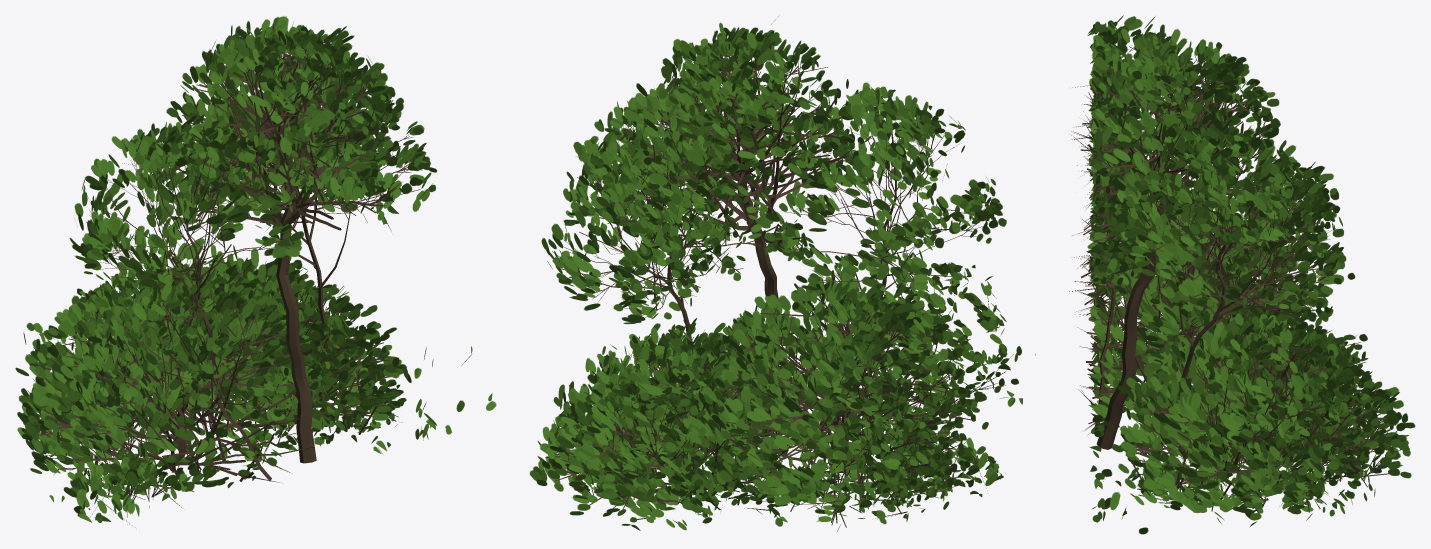
3 views of the same model, side by side, from view 1: azimuth 30°, elevation 25°; view 2: azimuth 150°, elevation 25°; view 3: azimuth 270°, elevation 25° (orthographic).
Visible parts, largest first — view 1: oak 01.001_trunk_Mat.001_0.396; view 2: oak 01.001_trunk_Mat.001_0.396; view 3: oak 01.001_trunk_Mat.001_0.396.
Part boxes in pixels (box(x1,y1,x2,y2)): oak 01.001_trunk_Mat.001_0.396: box(15, 16, 496, 527); oak 01.001_trunk_Mat.001_0.396: box(529, 15, 1035, 531); oak 01.001_trunk_Mat.001_0.396: box(1069, 15, 1415, 534).
Size of the model in its own units: 4.99 by 4.81 by 3.46.
Materials: 2 (1 with a texture image).
